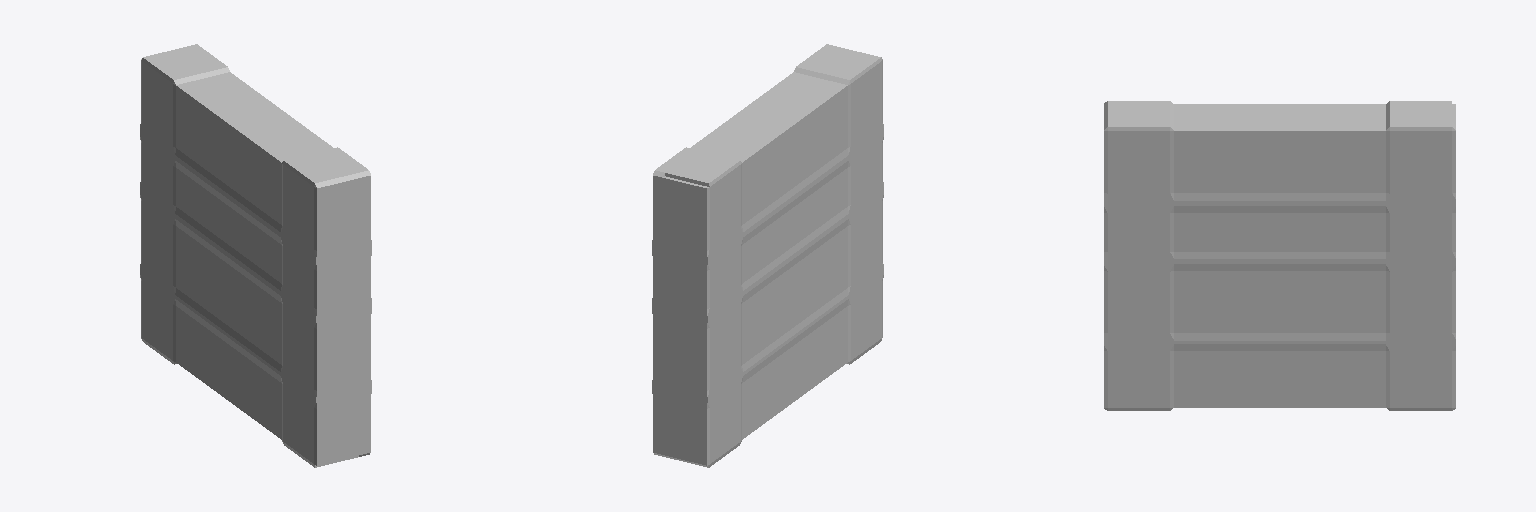
File: wall_segment.obj
The picture shows the model from 3 angles: view 1: azimuth 30°, elevation 25°; view 2: azimuth 150°, elevation 25°; view 3: azimuth 270°, elevation 25°; orthographic projection.
Parts seen in each view (by area): view 1: Cube.006; view 2: Cube.006; view 3: Cube.006.
Part boxes in pixels (bbox=[...]): Cube.006: bbox=[140, 44, 371, 467]; Cube.006: bbox=[652, 44, 883, 467]; Cube.006: bbox=[1104, 101, 1455, 410].
Bounding box in the file's own units: 1.82 × 8.9 × 10.